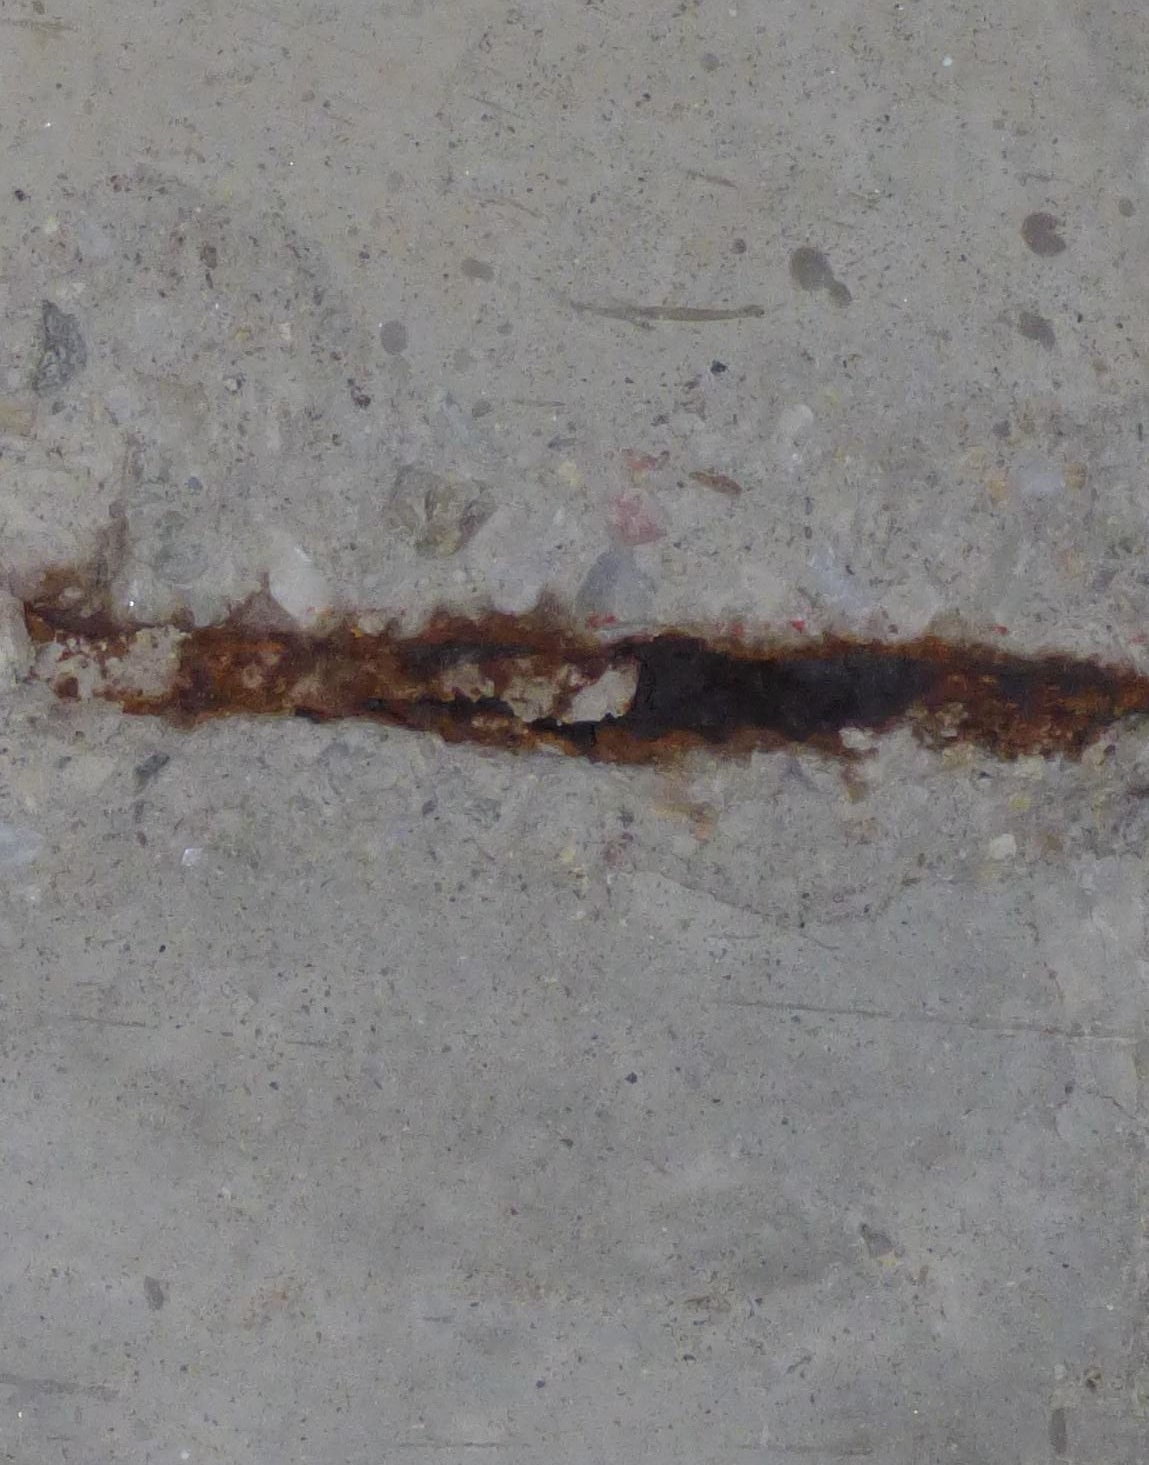Exposed reinforcement: (1, 592, 1149, 769)
